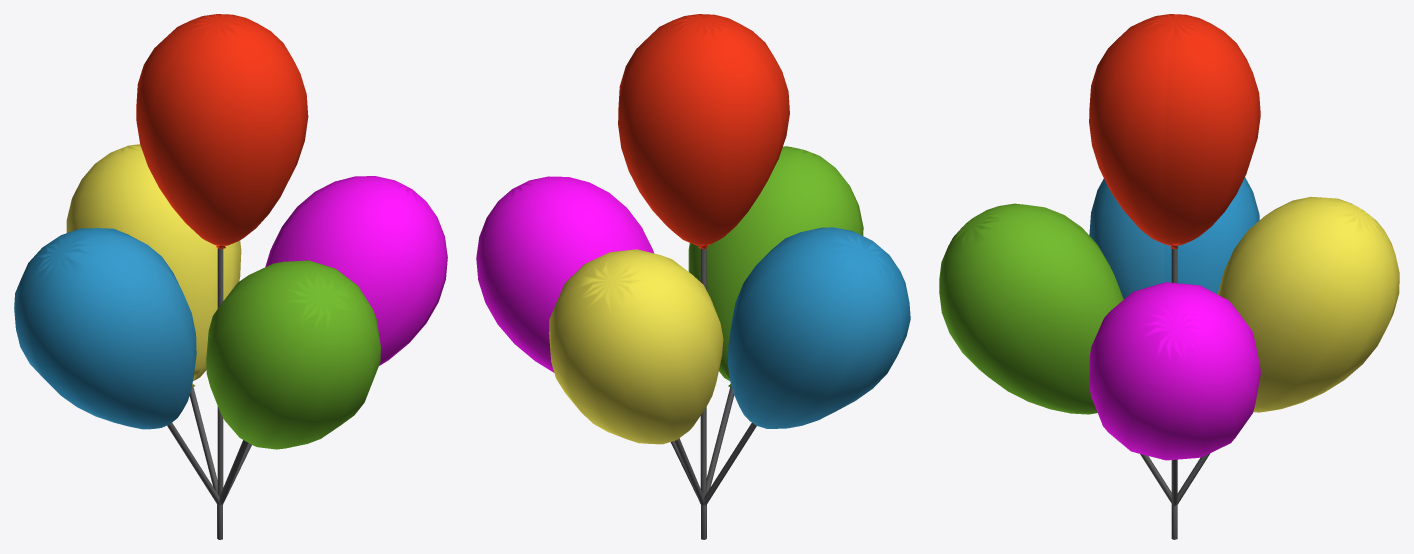
The model's file is baloons_lowpoly.glb.
3 renders of one model, left to right at view 1: azimuth 30°, elevation 25°; view 2: azimuth 150°, elevation 25°; view 3: azimuth 270°, elevation 25°, orthographic.
Parts seen in each view (by area): view 1: B1_01 - Default_0, B4_01 - Default_0, B3_01 - Default_0, B2_01 - Default_0, B5_01 - Default_0, Rope; view 2: B1_01 - Default_0, B4_01 - Default_0, B5_01 - Default_0, B2_01 - Default_0, B3_01 - Default_0, Rope; view 3: B1_01 - Default_0, B3_01 - Default_0, B5_01 - Default_0, B2_01 - Default_0, B4_01 - Default_0, Rope.
Part boxes in pixels (<box>): B1_01 - Default_0: <box>136,14,308,249</box>; B4_01 - Default_0: <box>14,228,196,429</box>; B3_01 - Default_0: <box>206,260,380,449</box>; B2_01 - Default_0: <box>265,176,447,365</box>; B5_01 - Default_0: <box>66,144,241,386</box>; Rope: <box>167,248,251,539</box>; B1_01 - Default_0: <box>618,14,789,249</box>; B4_01 - Default_0: <box>727,227,910,428</box>; B5_01 - Default_0: <box>549,249,723,444</box>; B2_01 - Default_0: <box>476,176,654,372</box>; B3_01 - Default_0: <box>688,146,863,386</box>; Rope: <box>670,246,756,539</box>; B1_01 - Default_0: <box>1089,14,1260,248</box>; B3_01 - Default_0: <box>939,203,1123,414</box>; B5_01 - Default_0: <box>1217,197,1399,412</box>; B2_01 - Default_0: <box>1089,282,1260,460</box>; B4_01 - Default_0: <box>1089,177,1259,299</box>; Rope: <box>1140,246,1209,539</box>.
Bounding box in the file's own units: 58.98 × 70.99 × 57.23.
1 material, 1 textured.
